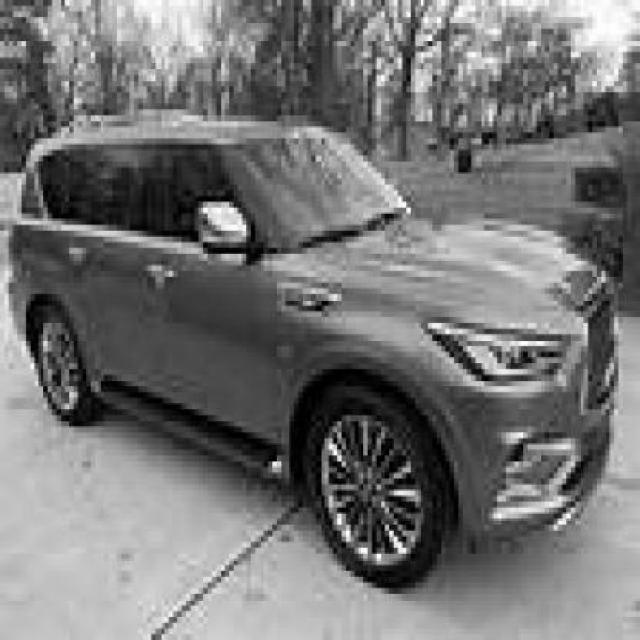SUV: (9, 122, 621, 590)
